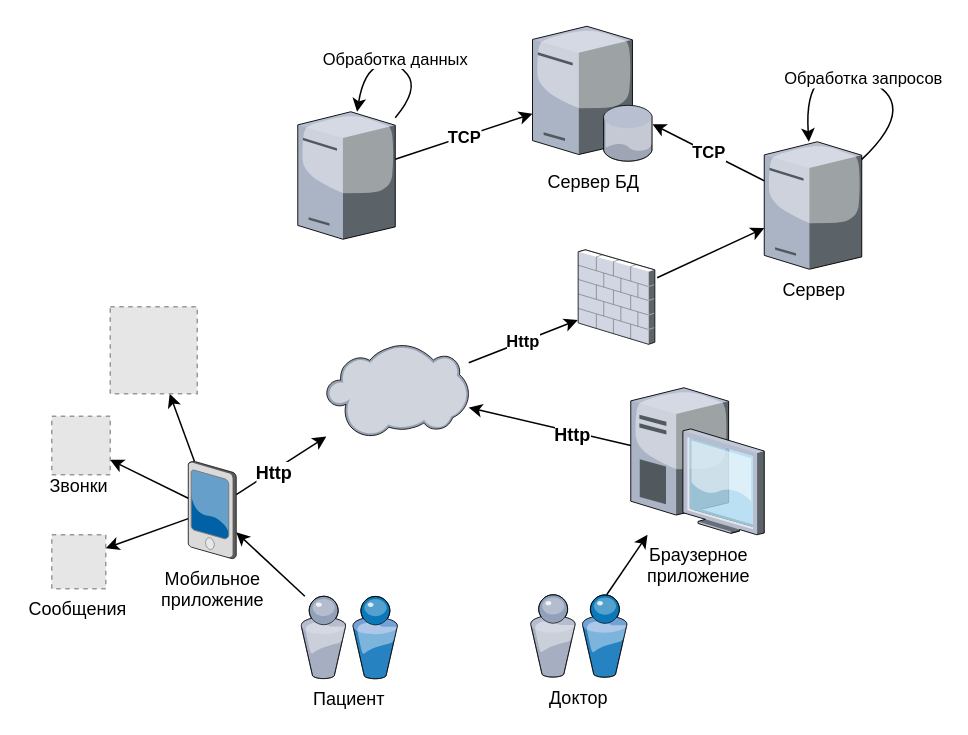
Some shapes in this 968 by 735 pixel diagram are drawn without their labels. Grey dashed boxes stand in for pictures. Here are the shapes that lost their labels. From the top down, the centre of each, then its label:
the point at 345,174: Вычислительный сервис
the point at 616,296: Firewall
the point at 397,390: Интернет
